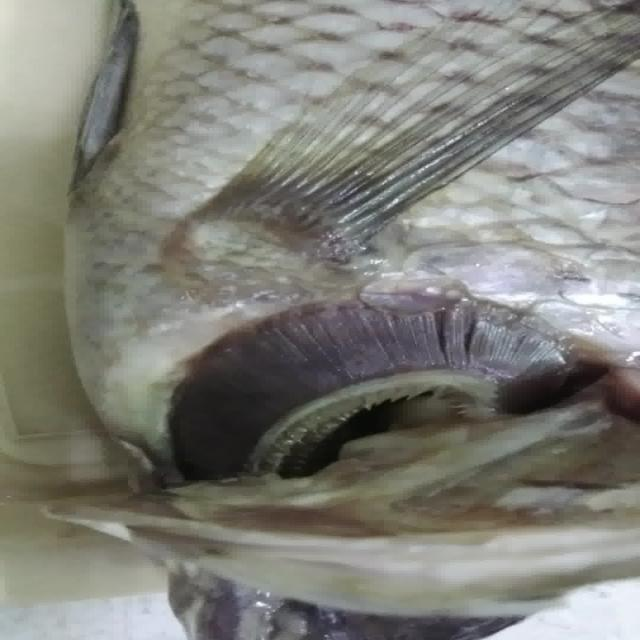Non-Fresh: (138, 288, 593, 478)
